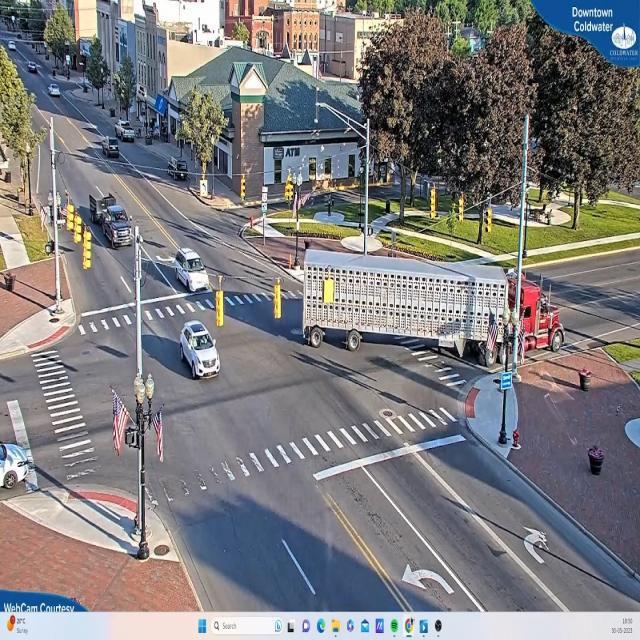car: (180, 319, 222, 379), (0, 443, 39, 491), (172, 244, 209, 292), (103, 202, 134, 248)
truck: (295, 243, 566, 362)
